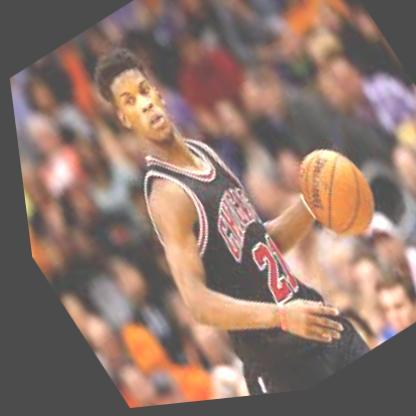basketball: (279, 141, 385, 257)
